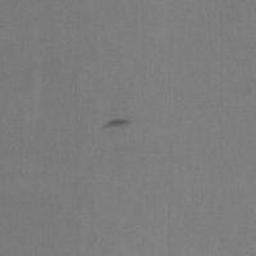Inclusion: (102, 119, 131, 129)
